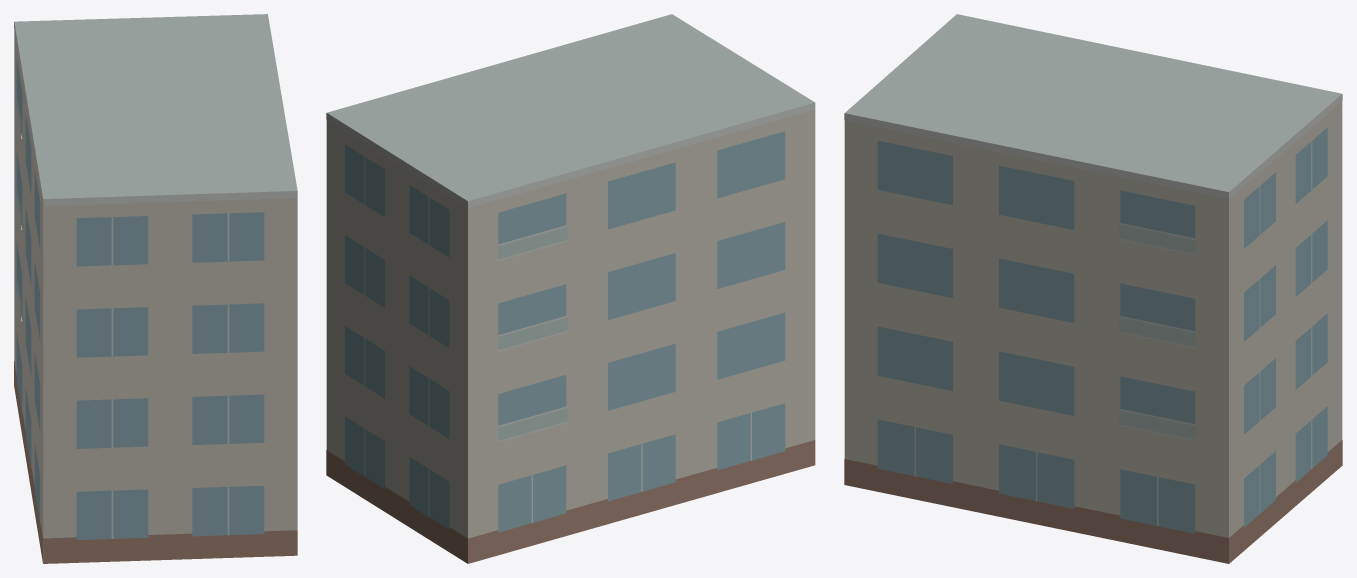
Rendered from survey-upis-32988589.glb.
The picture shows the model from 3 angles, left to right: view 1: azimuth 30°, elevation 25°; view 2: azimuth 150°, elevation 25°; view 3: azimuth 270°, elevation 25°; orthographic projection. The views are drawn at different scales.
Parts seen in each view (by area): view 1: survey-upis-32988589.tmp; view 2: survey-upis-32988589.tmp; view 3: survey-upis-32988589.tmp.
Boxes of the visible parts, x1=… form: survey-upis-32988589.tmp: x1=14, y1=14, x2=297, y2=563; survey-upis-32988589.tmp: x1=326, y1=14, x2=815, y2=563; survey-upis-32988589.tmp: x1=844, y1=14, x2=1342, y2=563.
Bounding box in the file's own units: 12.85 × 12.5 × 15.18.
